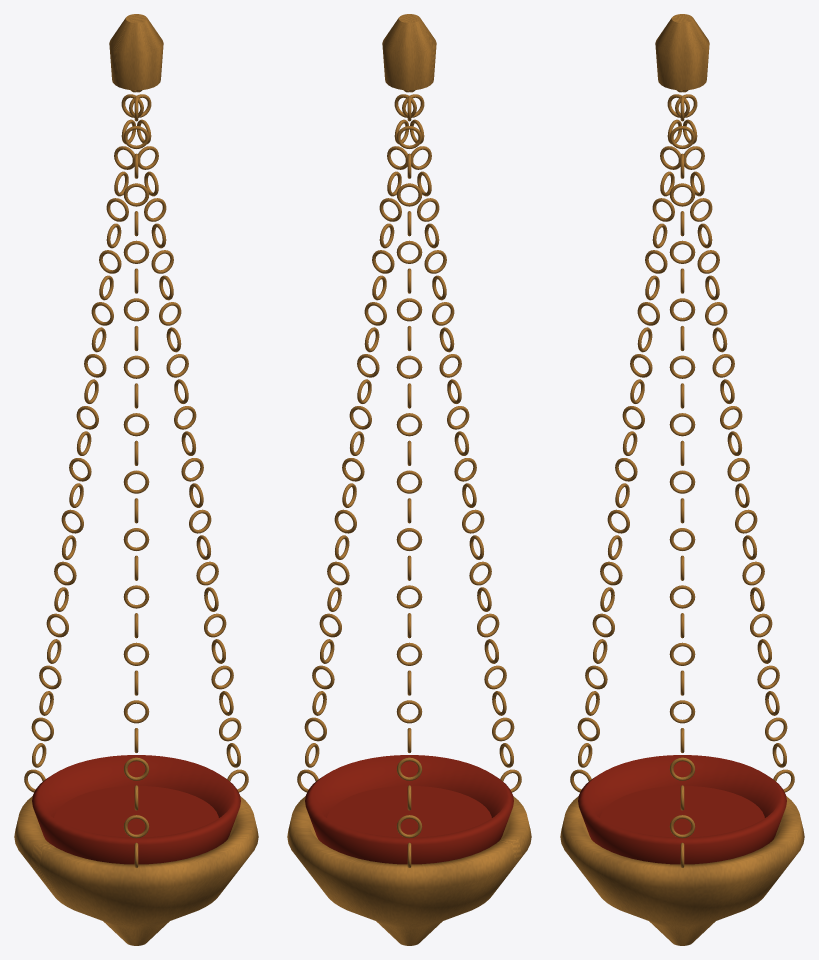
File: hanging_lamp.glb
3 renders of one model, left to right at view 1: azimuth 30°, elevation 25°; view 2: azimuth 150°, elevation 25°; view 3: azimuth 270°, elevation 25°, orthographic.
Parts seen in each view (by area): view 1: AgedBrassSurface, RubyGlassSurface; view 2: AgedBrassSurface, RubyGlassSurface; view 3: AgedBrassSurface, RubyGlassSurface.
Part boxes in pixels (box(x1,y1,x2,y2)): AgedBrassSurface: box(14, 14, 258, 945); RubyGlassSurface: box(32, 755, 240, 864); AgedBrassSurface: box(287, 14, 531, 945); RubyGlassSurface: box(305, 755, 513, 864); AgedBrassSurface: box(560, 14, 804, 945); RubyGlassSurface: box(578, 755, 786, 864).
Bounding box in the file's own units: 0.1854 × 0.75 × 0.18.
2 materials, 1 textured.
